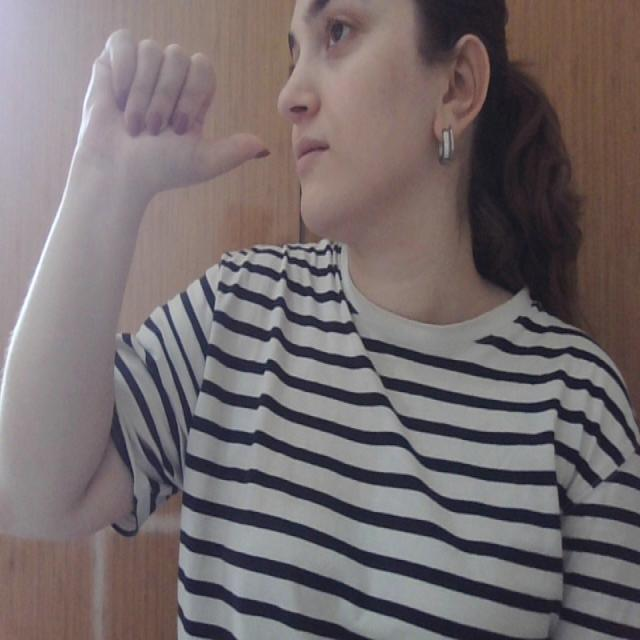icmek: (19, 36, 326, 200)
